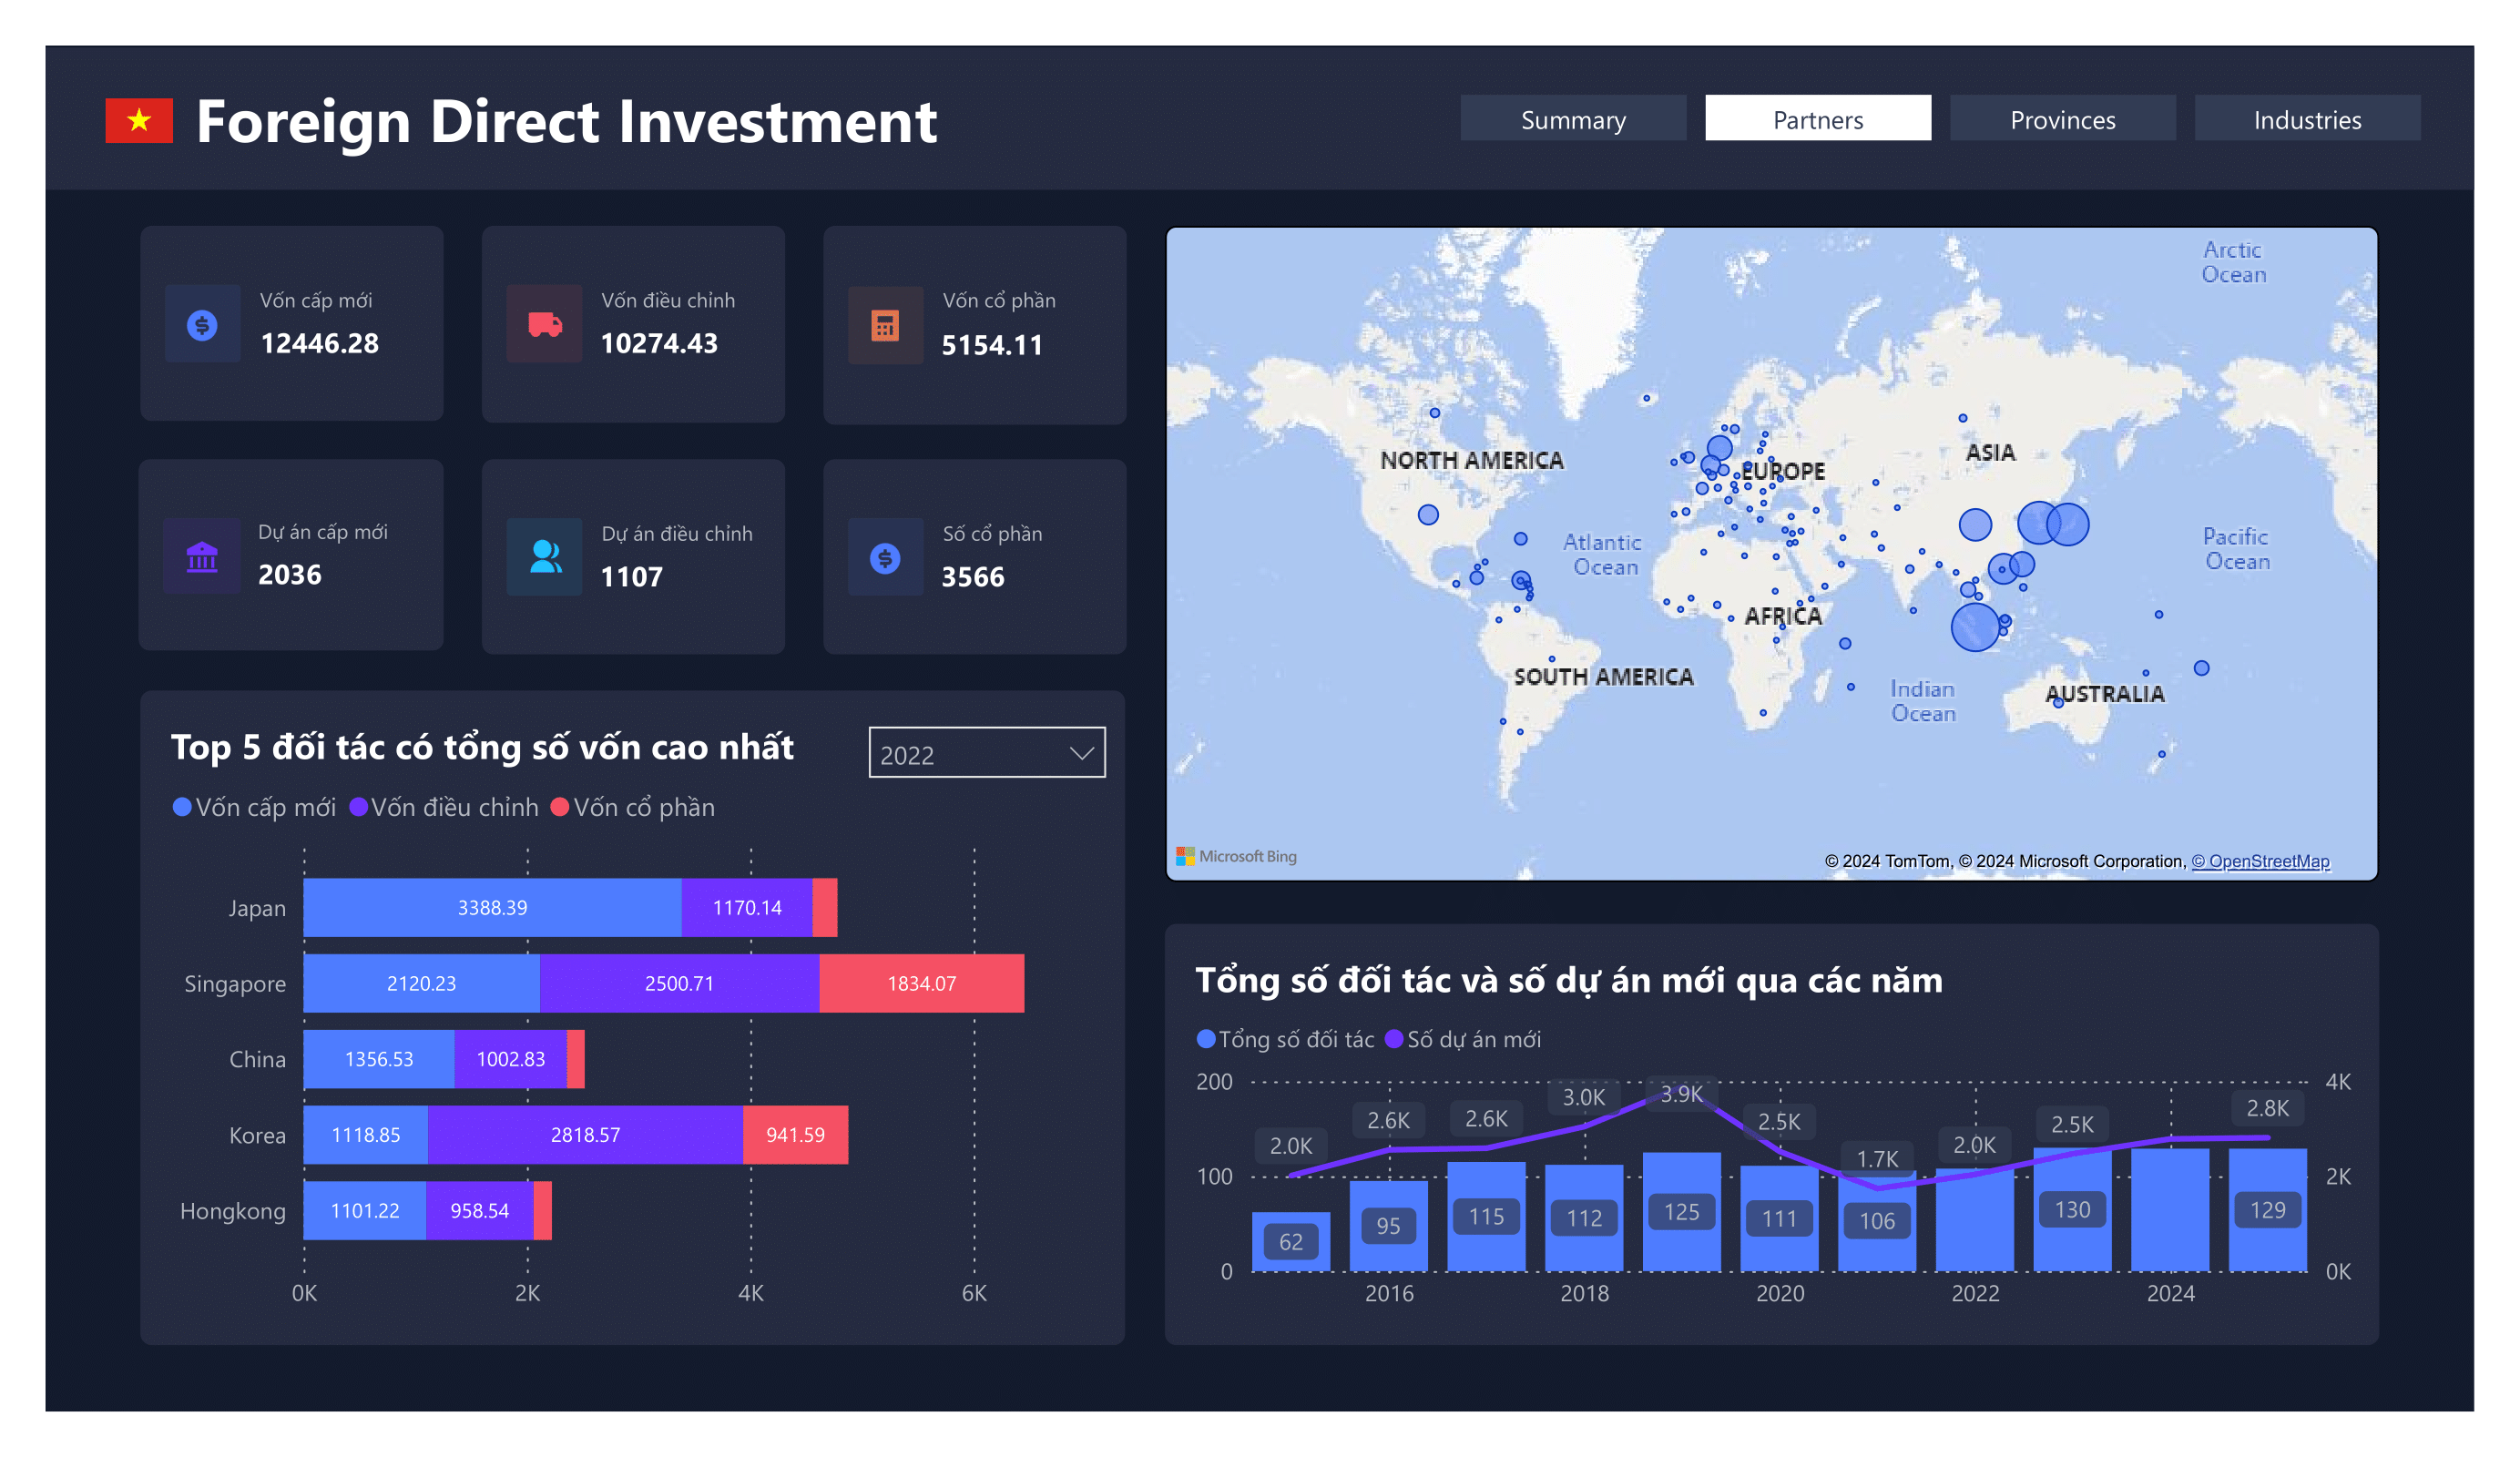

Layout of this report page (visuals, bound fields, positions):
{"tool":"powerbi","page":{"name":"Partners","canvas":[1280,720],"ordinal":1},"visuals":[{"type":"barChart","title":"Top 5 đối tác có tổng số vốn cao nhất","fields":{"Category":["fdi_country_partners_en_clean.Đối tác"],"Y":["Sum(fdi_country_partners_en_clean.Vốn đăng ký cấp mới (triệu USD))","Sum(fdi_country_partners_en_clean.Vốn đăng ký điều chỉnh (triệu USD))","Sum(fdi_country_partners_en_clean.Giá trị góp vốn, mua cổ phần (triệu USD))"]},"box":[50,340,518.8,345],"z":0},{"type":"group","id":"g1","title":"Group 2","box":[50,95,160,102.5],"z":1000},{"type":"group","id":"g2","title":"Group 3","box":[48.8,217.5,161.2,102.5],"z":2000},{"type":"shape","box":[48.8,217.5,161.2,101.3],"z":2500,"group":"g8"},{"type":"group","id":"g3","title":"Group 4","box":[230,95,160,103.8],"z":3000},{"type":"shape","box":[50,95,160,103.4],"z":4000,"group":"g9"},{"type":"group","id":"g4","title":"Group 5","box":[230,217.5,160,102.5],"z":4000},{"type":"shape","box":[410,217.5,160,103.4],"z":4000,"group":"g7"},{"type":"group","id":"g5","title":"Group 8","box":[410,95,160,103.8],"z":5000},{"type":"group","id":"g6","title":"Group 9","box":[410,217.5,160,102.5],"z":6000},{"type":"shape","box":[0,0.8,1280,75],"z":7000},{"type":"shape","box":[60.8,0,427.7,74.6],"z":8000},{"type":"image","box":[25.7,23.2,47.3,32.4],"z":9000},{"type":"shape","box":[410,95,160,104.6],"z":9000,"group":"g5"},{"type":"pageNavigator","box":[746,26.2,507,24],"z":10000},{"type":"shape","box":[422.9,126.6,40,41.5],"z":10000,"group":"g5"},{"type":"shape","box":[62.2,248.3,40.3,40],"z":10000,"group":"g8"},{"type":"map","fields":{"Category":["fdi_country_partners_en_clean.Đối tác"],"Size":["fdi_country_partners_en_clean.Total_Partners"]},"box":[590,95,640,346.2],"z":11000},{"type":"image","box":[428.5,131.7,28.9,31.1],"z":11000,"group":"g5"},{"type":"shape","box":[230,217.5,160,103.4],"z":12000,"group":"g4"},{"type":"slicer","fields":{"Values":["fdi_country_partners_en_clean.Năm"]},"box":[423.8,348.8,145,48.8],"z":12000},{"type":"shape","box":[243.3,248.7,40,41],"z":13000,"group":"g4"},{"type":"lineStackedColumnComboChart","title":"Tổng số đối tác và số dự án mới qua các năm","fields":{"Category":["fdi_country_partners_en_clean.Năm"],"Y":["CountNonNull(fdi_country_partners_en_clean.Đối tác)"],"Y2":["Sum(fdi_country_partners_en_clean.Số dự án cấp mới)"]},"box":[590,462.5,640,222.5],"z":13001},{"type":"shape","box":[230,95,160,103.8],"z":14000,"group":"g3"},{"type":"shape","box":[243.3,126.1,40,41],"z":15000,"group":"g3"},{"type":"group","id":"g7","title":"Group 7","box":[410,217.5,160,103.4],"z":16000,"group":"g6"},{"type":"group","id":"g8","title":"Group 6","box":[48.8,217.5,161.2,102.5],"z":17000,"group":"g2"},{"type":"image","box":[68,253.3,28.7,30],"z":17000,"group":"g8"},{"type":"group","id":"g9","title":"Group 7","box":[50,95,160,103.4],"z":18000,"group":"g1"},{"type":"shape","box":[112.7,125.8,97.3,20.5],"z":19000,"group":"g1"},{"type":"shape","box":[472.7,248.3,97.3,21.4],"z":20000,"group":"g6"},{"type":"shape","box":[472.7,126.1,97.3,21.7],"z":21000,"group":"g5"},{"type":"shape","box":[292.7,125.7,97.3,21.4],"z":22000,"group":"g3"},{"type":"shape","box":[63.3,126.1,40,41.3],"z":22000,"group":"g10"},{"type":"shape","box":[423.3,248.6,40,41.3],"z":22000,"group":"g11"},{"type":"image","box":[68.8,131.5,29,31.1],"z":23000,"group":"g10"},{"type":"shape","box":[112,247.5,98,20.9],"z":23000,"group":"g2"},{"type":"image","box":[428.8,254,29,31.1],"z":23000,"group":"g11"},{"type":"image","box":[249.2,131.2,28.3,30.7],"z":24000,"group":"g3"},{"type":"group","id":"g10","title":"Group 1","box":[63.3,126.1,40,41.3],"z":25000,"group":"g9"},{"type":"group","id":"g11","title":"Group 1","box":[423.3,248.6,40,41.3],"z":25000,"group":"g7"},{"type":"image","box":[248.6,253.5,29.4,31.3],"z":25000,"group":"g4"},{"type":"shape","box":[292.7,248.3,97.3,21.4],"z":26000,"group":"g4"},{"type":"multiRowCard","fields":{"Values":["Sum(fdi_country_partners_en_clean.Vốn đăng ký điều chỉnh (triệu USD))"]},"box":[292.2,146.4,97.8,36.4],"z":27000,"group":"g3"},{"type":"multiRowCard","fields":{"Values":["Sum(fdi_country_partners_en_clean.Số dự án cấp mới)"]},"box":[112.1,267.7,97.4,35.7],"z":28000,"group":"g2"},{"type":"multiRowCard","fields":{"Values":["Sum(fdi_country_partners_en_clean.Số lượt dự án điều chỉnh)"]},"box":[292.2,268.9,96.7,36.4],"z":29000,"group":"g4"},{"type":"multiRowCard","fields":{"Values":["Sum(fdi_country_partners_en_clean.Số lượt góp vốn mua cổ phần)"]},"box":[472.2,268.9,96.7,36.4],"z":30000,"group":"g6"},{"type":"multiRowCard","fields":{"Values":["Sum(fdi_country_partners_en_clean.Giá trị góp vốn, mua cổ phần (triệu USD))"]},"box":[472.2,147,97.8,36.9],"z":31000,"group":"g5"},{"type":"multiRowCard","fields":{"Values":["Sum(fdi_country_partners_en_clean.Vốn đăng ký cấp mới (triệu USD))"]},"box":[112.9,146.4,97.1,36.8],"z":32000,"group":"g1"}]}

Visuals, with their boxes on the page's 1280x720 design canvas (x1, y1, x2, y2). These are canvas units, not pixel positions in the 2520x1457 screenshot, which may show the page scaled, cropped or inside an application window:
"Top 5 đối tác có tổng số vốn cao nhất" barChart: [left=50, top=340, right=569, bottom=685]
"Group 2" group: [left=50, top=95, right=210, bottom=198]
"Group 3" group: [left=49, top=218, right=210, bottom=320]
shape: [left=49, top=218, right=210, bottom=319]
"Group 4" group: [left=230, top=95, right=390, bottom=199]
shape: [left=50, top=95, right=210, bottom=198]
"Group 5" group: [left=230, top=218, right=390, bottom=320]
shape: [left=410, top=218, right=570, bottom=321]
"Group 8" group: [left=410, top=95, right=570, bottom=199]
"Group 9" group: [left=410, top=218, right=570, bottom=320]
shape: [left=0, top=1, right=1280, bottom=76]
shape: [left=61, top=0, right=488, bottom=75]
image: [left=26, top=23, right=73, bottom=56]
shape: [left=410, top=95, right=570, bottom=200]
pageNavigator: [left=746, top=26, right=1253, bottom=50]
shape: [left=423, top=127, right=463, bottom=168]
shape: [left=62, top=248, right=102, bottom=288]
map - fdi_country_partners_en_clean.Đối tác x fdi_country_partners_en_clean.Total_Partners: [left=590, top=95, right=1230, bottom=441]
image: [left=428, top=132, right=457, bottom=163]
shape: [left=230, top=218, right=390, bottom=321]
slicer - fdi_country_partners_en_clean.Năm: [left=424, top=349, right=569, bottom=398]
shape: [left=243, top=249, right=283, bottom=290]
"Tổng số đối tác và số dự án mới qua các năm" lineStackedColumnComboChart: [left=590, top=462, right=1230, bottom=685]
shape: [left=230, top=95, right=390, bottom=199]
shape: [left=243, top=126, right=283, bottom=167]
"Group 7" group: [left=410, top=218, right=570, bottom=321]
"Group 6" group: [left=49, top=218, right=210, bottom=320]
image: [left=68, top=253, right=97, bottom=283]
"Group 7" group: [left=50, top=95, right=210, bottom=198]
shape: [left=113, top=126, right=210, bottom=146]
shape: [left=473, top=248, right=570, bottom=270]
shape: [left=473, top=126, right=570, bottom=148]
shape: [left=293, top=126, right=390, bottom=147]
shape: [left=63, top=126, right=103, bottom=167]
shape: [left=423, top=249, right=463, bottom=290]
image: [left=69, top=132, right=98, bottom=163]
shape: [left=112, top=248, right=210, bottom=268]
image: [left=429, top=254, right=458, bottom=285]
image: [left=249, top=131, right=278, bottom=162]
"Group 1" group: [left=63, top=126, right=103, bottom=167]
"Group 1" group: [left=423, top=249, right=463, bottom=290]
image: [left=249, top=254, right=278, bottom=285]
shape: [left=293, top=248, right=390, bottom=270]
multiRowCard - Sum(fdi_country_partners_en_clean.Vốn đăng ký điều chỉnh (triệu USD)): [left=292, top=146, right=390, bottom=183]
multiRowCard - Sum(fdi_country_partners_en_clean.Số dự án cấp mới): [left=112, top=268, right=210, bottom=303]
multiRowCard - Sum(fdi_country_partners_en_clean.Số lượt dự án điều chỉnh): [left=292, top=269, right=389, bottom=305]
multiRowCard - Sum(fdi_country_partners_en_clean.Số lượt góp vốn mua cổ phần): [left=472, top=269, right=569, bottom=305]
multiRowCard - Sum(fdi_country_partners_en_clean.Giá trị góp vốn, mua cổ phần (triệu USD)): [left=472, top=147, right=570, bottom=184]
multiRowCard - Sum(fdi_country_partners_en_clean.Vốn đăng ký cấp mới (triệu USD)): [left=113, top=146, right=210, bottom=183]
